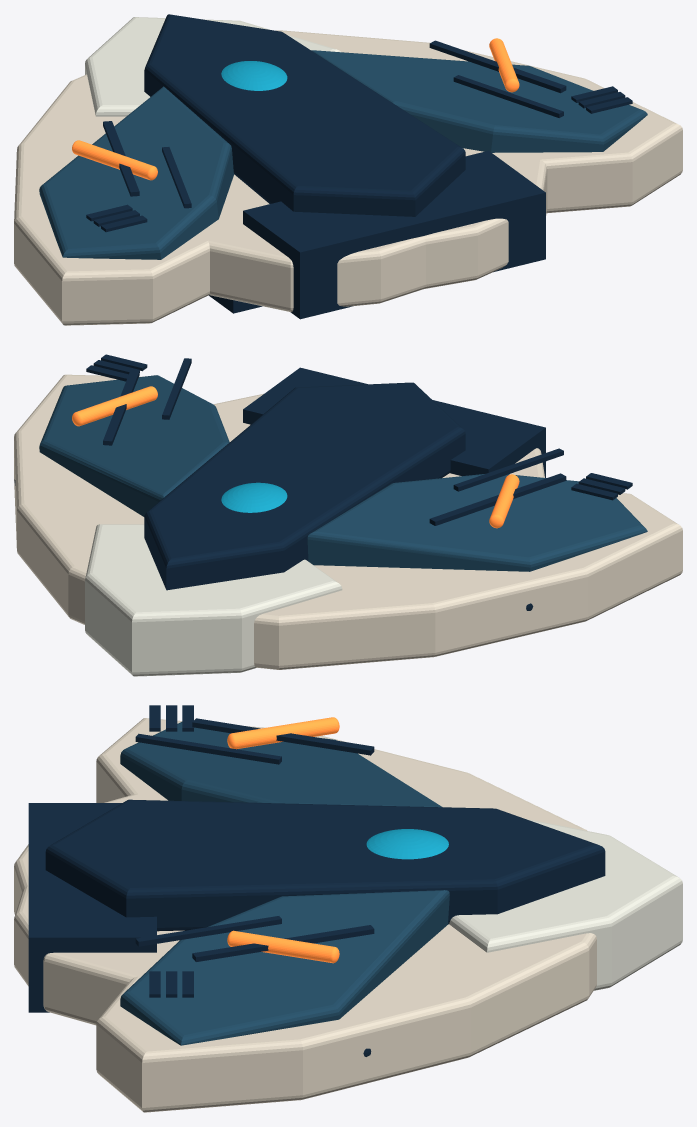
Rendered from bulwark-high.glb.
3 views of the same model, one above another, from view 1: azimuth 30°, elevation 25°; view 2: azimuth 150°, elevation 25°; view 3: azimuth 270°, elevation 25° (orthographic). The views are drawn at different scales.
Visible parts, largest first — view 1: dark_static, hull_static, accent_static, porcelain_static, trim_static, glass_static; view 2: dark_static, hull_static, accent_static, porcelain_static, trim_static, glass_static; view 3: dark_static, hull_static, accent_static, porcelain_static, trim_static, glass_static.
Part boxes in pixels (x1=…): dark_static: x1=86, y1=14, x2=632, y2=319; hull_static: x1=14, y1=30, x2=682, y2=325; accent_static: x1=39, y1=50, x2=647, y2=259; porcelain_static: x1=85, y1=17, x2=340, y2=116; trim_static: x1=72, y1=38, x2=519, y2=180; glass_static: x1=221, y1=61, x2=287, y2=90; dark_static: x1=14, y1=354, x2=632, y2=610; hull_static: x1=14, y1=374, x2=682, y2=669; accent_static: x1=39, y1=375, x2=647, y2=571; porcelain_static: x1=85, y1=524, x2=342, y2=676; trim_static: x1=72, y1=386, x2=519, y2=528; glass_static: x1=221, y1=482, x2=287, y2=512; dark_static: x1=28, y1=705, x2=605, y2=1056; hull_static: x1=14, y1=718, x2=596, y2=1112; accent_static: x1=120, y1=722, x2=449, y2=1045; porcelain_static: x1=449, y1=818, x2=682, y2=990; trim_static: x1=227, y1=717, x2=339, y2=963; glass_static: x1=366, y1=829, x2=448, y2=859.
Bounding box in the file's own units: 389 × 70 × 323.
